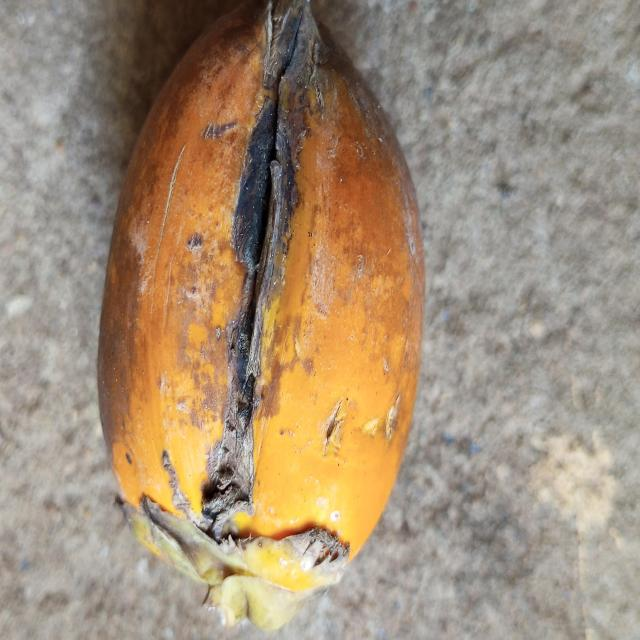damaged: (96, 0, 427, 633)
